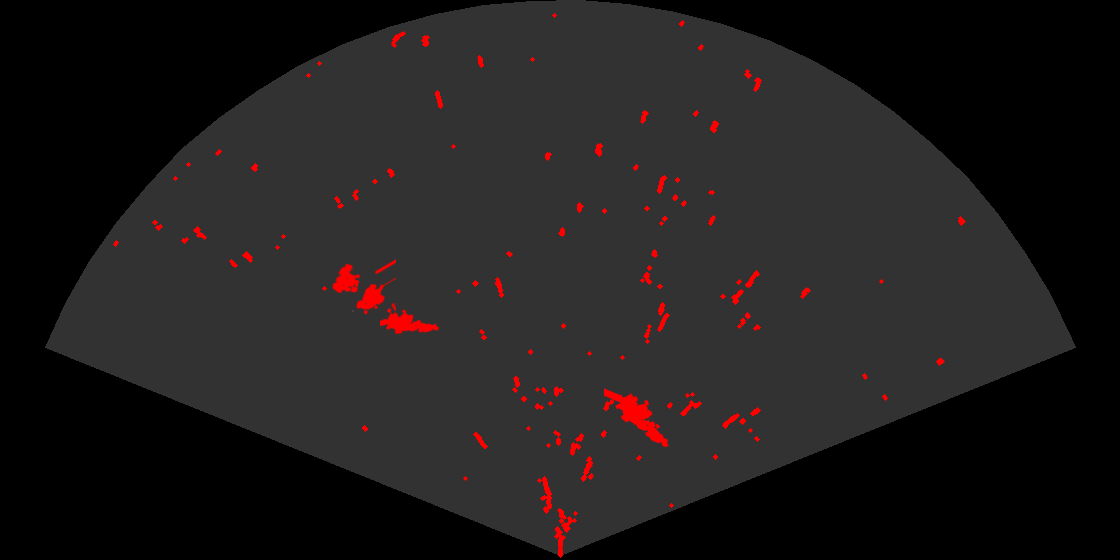cage: (330, 258, 396, 326)
frogman: (604, 387, 670, 449), (380, 307, 441, 336)
